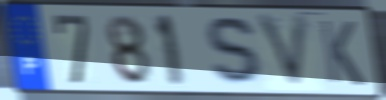1: (152, 12, 188, 89)
7: (51, 12, 90, 86)
8: (105, 14, 152, 87)
K: (316, 17, 367, 89)
S: (203, 14, 268, 90)
V: (253, 12, 313, 93)
